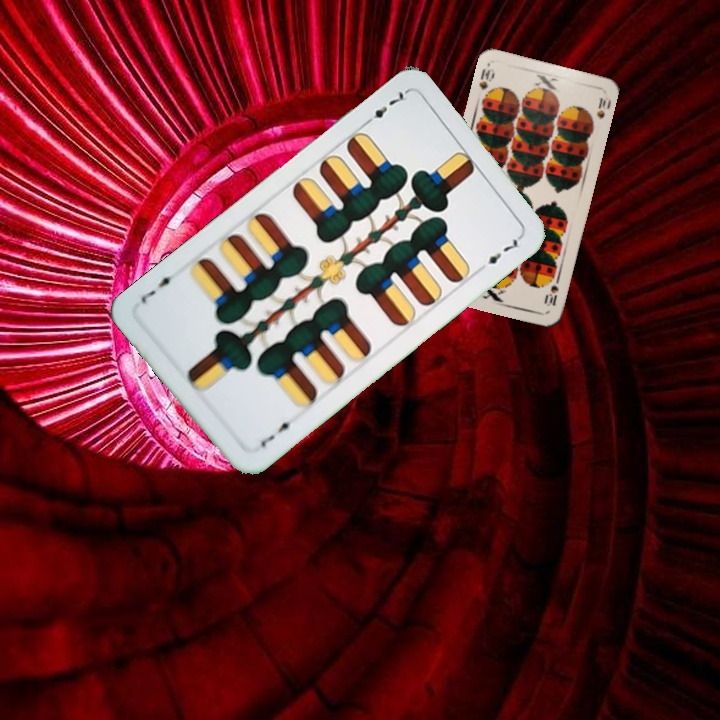E7: (359, 87, 409, 129), (256, 415, 299, 450)
S10: (542, 273, 562, 309), (475, 61, 497, 93)
